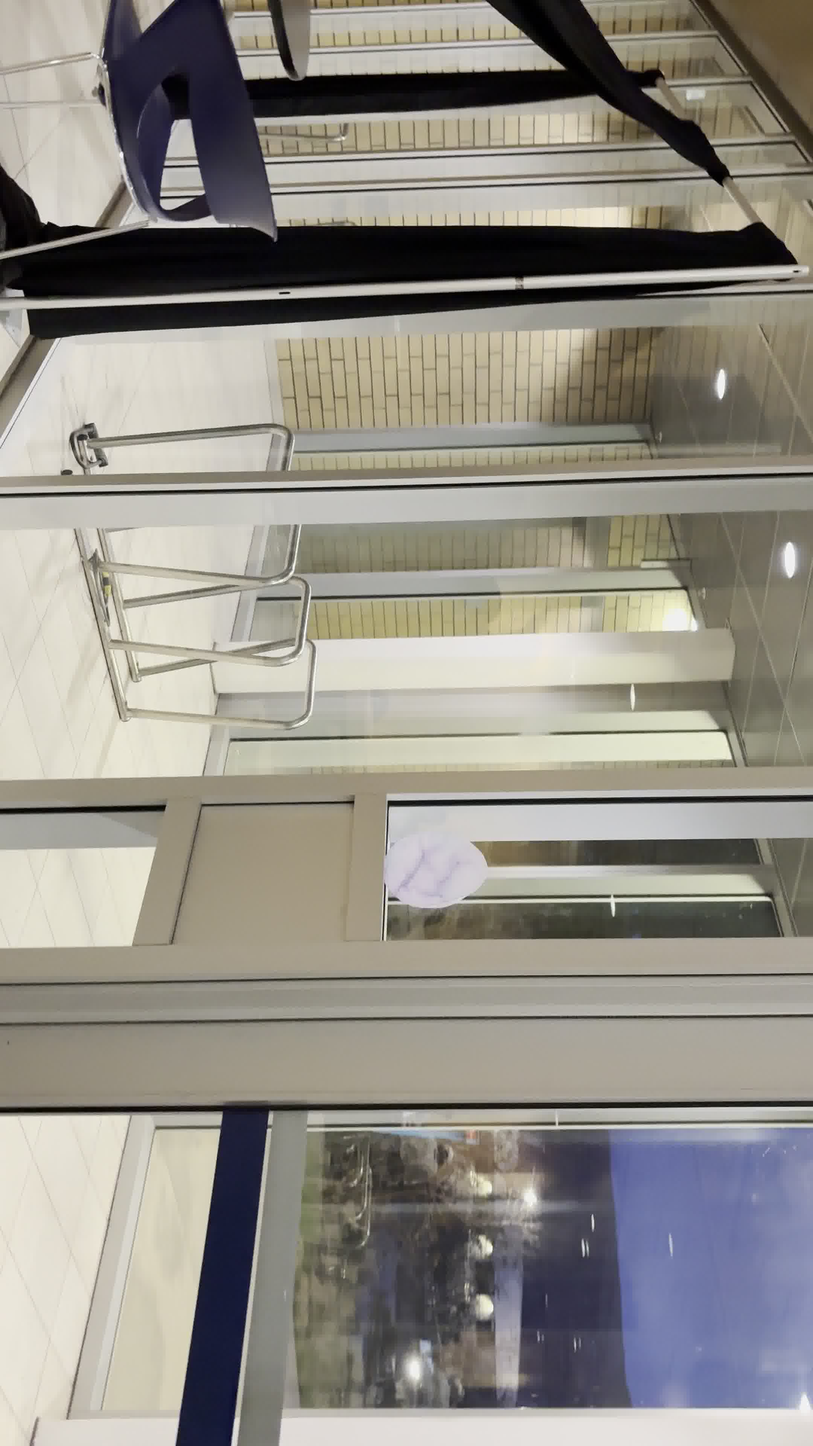Target: (381, 829, 489, 910)
